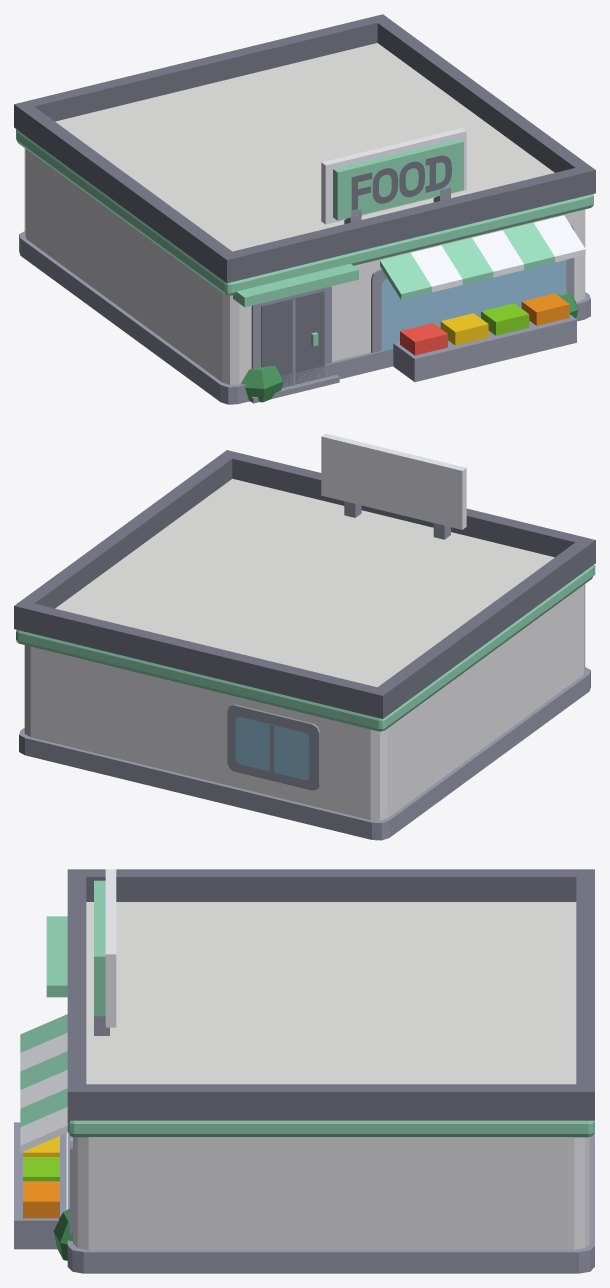
Rendered from shop-food-1x1-t1-tone-a.glb.
3 views of the same model, one above another, from view 1: azimuth 30°, elevation 25°; view 2: azimuth 150°, elevation 25°; view 3: azimuth 270°, elevation 25° (orthographic). The views are drawn at different scales.
Parts seen in each view (by area): view 1: shop-food-1x1-t1-tone-a; view 2: shop-food-1x1-t1-tone-a; view 3: shop-food-1x1-t1-tone-a.
Part boxes in pixels (x1,y1,x2,y2): shop-food-1x1-t1-tone-a: [14, 14, 595, 404]; shop-food-1x1-t1-tone-a: [14, 433, 595, 840]; shop-food-1x1-t1-tone-a: [14, 869, 594, 1273].
Size of the model in its own units: 1 by 0.524 by 1.1.
Materials: 1 (1 with a texture image).
